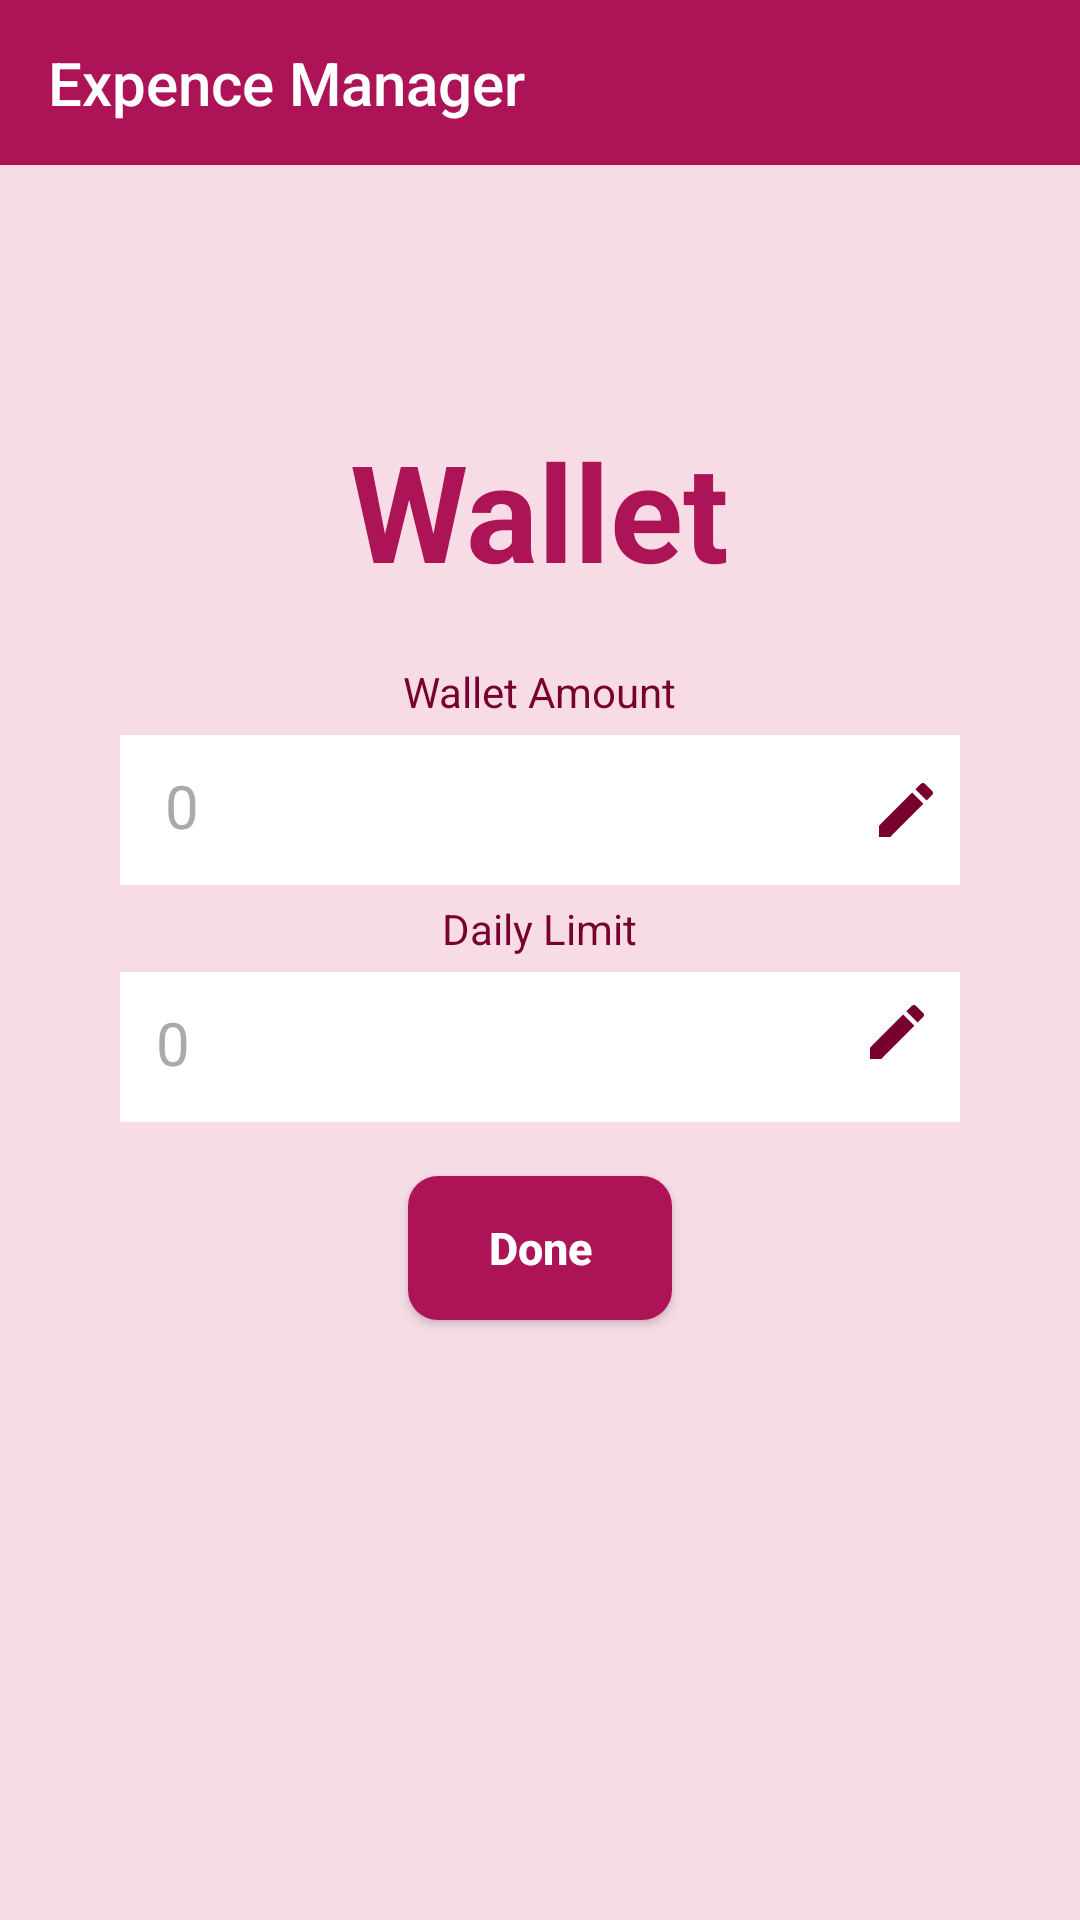

Named icons in this screenshot (1080px x 1920px) and their bounding boxes, [x1=x1, y1=y1, x2=x2, y2=y2]:
edit: [x1=879, y1=783, x2=933, y2=837], [x1=870, y1=1005, x2=924, y2=1059]
